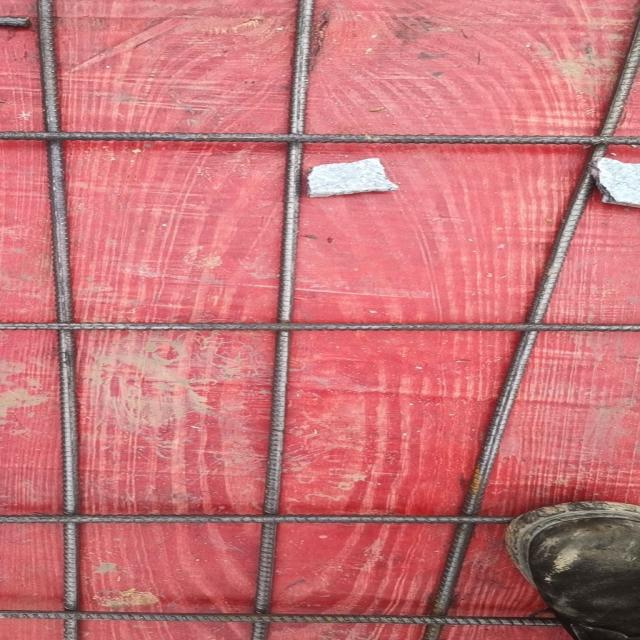ribbed bar: (411, 23, 639, 640), (252, 0, 315, 639), (38, 0, 81, 639), (1, 131, 639, 146), (0, 610, 562, 626), (1, 322, 639, 332), (0, 517, 513, 525)
